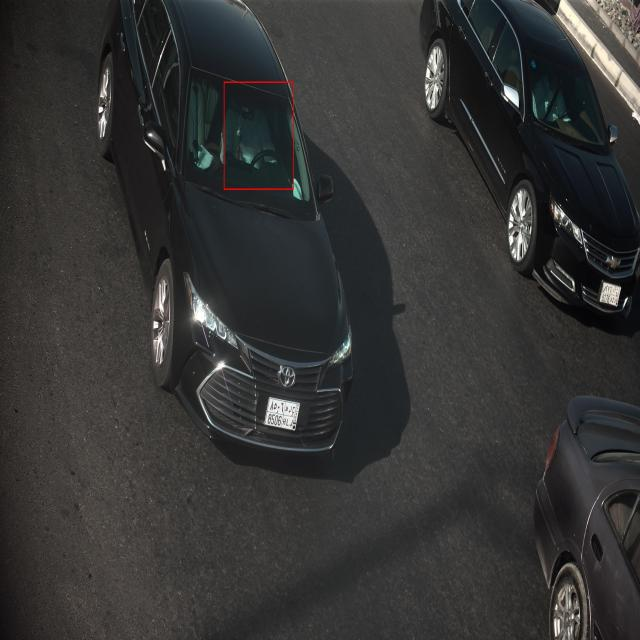windshield: (175, 50, 318, 227), (527, 42, 611, 160)
